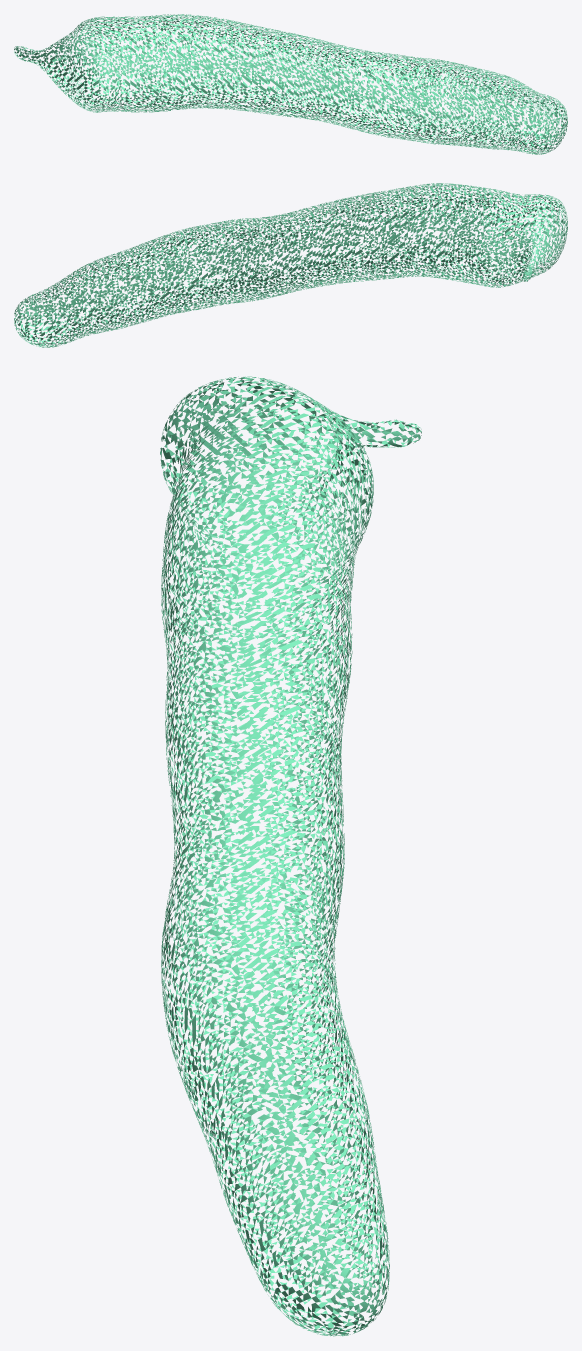
The model's file is healthy.glb.
The picture shows the model from 3 angles, top to bottom: view 1: azimuth 30°, elevation 25°; view 2: azimuth 150°, elevation 25°; view 3: azimuth 270°, elevation 25°; orthographic projection. The views are drawn at different scales.
Bounding box in the file's own units: 134 × 60.09 × 28.85.
